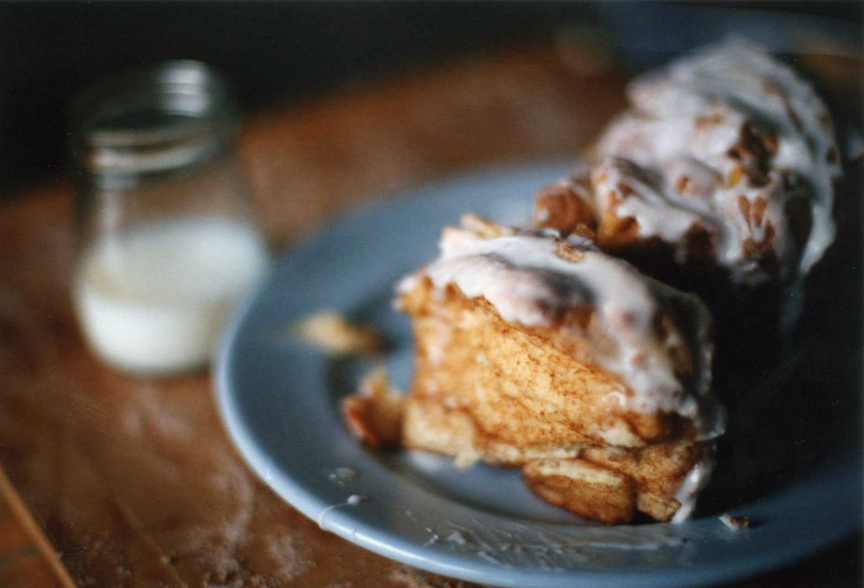glass of milk: (59, 85, 279, 382)
